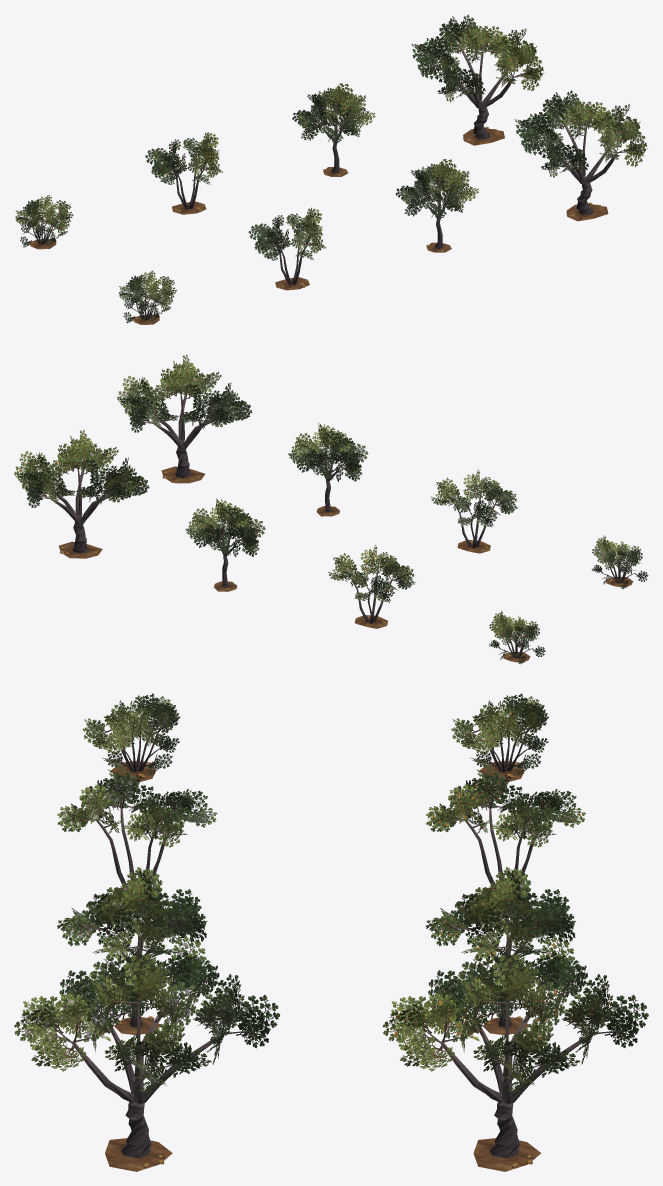
Rendered from espinheiros.glb.
The picture shows the model from 3 angles, top to bottom: view 1: azimuth 30°, elevation 25°; view 2: azimuth 150°, elevation 25°; view 3: azimuth 270°, elevation 25°; orthographic projection. The views are drawn at different scales.
Parts seen in each view (by area): view 1: Espinheiro4_Velho_Outono, Espinheiro4_Velho_Primavera, Espinheiro3_Arvore_Primavera, Espinheiro3_Arvore_Outono, Espinheiro2_Multicaule_Outono, Espinheiro2_Multicaule_Primavera, Espinheiro1_Moita_Primavera, Espinheiro1_Moita_Outono; view 2: Espinheiro4_Velho_Primavera, Espinheiro4_Velho_Outono, Espinheiro3_Arvore_Primavera, Espinheiro3_Arvore_Outono, Espinheiro2_Multicaule_Primavera, Espinheiro2_Multicaule_Outono, Espinheiro1_Moita_Outono, Espinheiro1_Moita_Primavera; view 3: Espinheiro4_Velho_Primavera, Espinheiro4_Velho_Outono, Espinheiro3_Arvore_Outono, Espinheiro3_Arvore_Primavera, Espinheiro2_Multicaule_Primavera, Espinheiro2_Multicaule_Outono, Espinheiro1_Moita_Primavera, Espinheiro1_Moita_Outono.
Boxes of the visible parts, bbox=[...] form: Espinheiro4_Velho_Outono: bbox=[411, 14, 543, 145]; Espinheiro4_Velho_Primavera: bbox=[514, 90, 647, 221]; Espinheiro3_Arvore_Primavera: bbox=[395, 159, 478, 252]; Espinheiro3_Arvore_Outono: bbox=[292, 83, 375, 176]; Espinheiro2_Multicaule_Outono: bbox=[145, 132, 223, 214]; Espinheiro2_Multicaule_Primavera: bbox=[248, 207, 326, 290]; Espinheiro1_Moita_Primavera: bbox=[118, 270, 176, 324]; Espinheiro1_Moita_Outono: bbox=[15, 194, 73, 249]; Espinheiro4_Velho_Primavera: bbox=[117, 354, 252, 483]; Espinheiro4_Velho_Outono: bbox=[14, 429, 149, 558]; Espinheiro3_Arvore_Primavera: bbox=[288, 422, 368, 516]; Espinheiro3_Arvore_Outono: bbox=[185, 498, 265, 591]; Espinheiro2_Multicaule_Primavera: bbox=[431, 469, 518, 553]; Espinheiro2_Multicaule_Outono: bbox=[328, 545, 415, 628]; Espinheiro1_Moita_Outono: bbox=[489, 610, 545, 664]; Espinheiro1_Moita_Primavera: bbox=[591, 535, 648, 588]; Espinheiro4_Velho_Primavera: bbox=[14, 936, 279, 1171]; Espinheiro4_Velho_Outono: bbox=[382, 936, 648, 1171]; Espinheiro3_Arvore_Outono: bbox=[425, 867, 575, 1034]; Espinheiro3_Arvore_Primavera: bbox=[57, 867, 207, 1034]; Espinheiro2_Multicaule_Primavera: bbox=[57, 769, 217, 906]; Espinheiro2_Multicaule_Outono: bbox=[426, 769, 585, 906]; Espinheiro1_Moita_Primavera: bbox=[82, 693, 180, 782]; Espinheiro1_Moita_Outono: bbox=[451, 693, 548, 782].
Size of the model in its own units: 32.29 by 6.45 by 18.95.
Materials: 2 (2 with a texture image).
